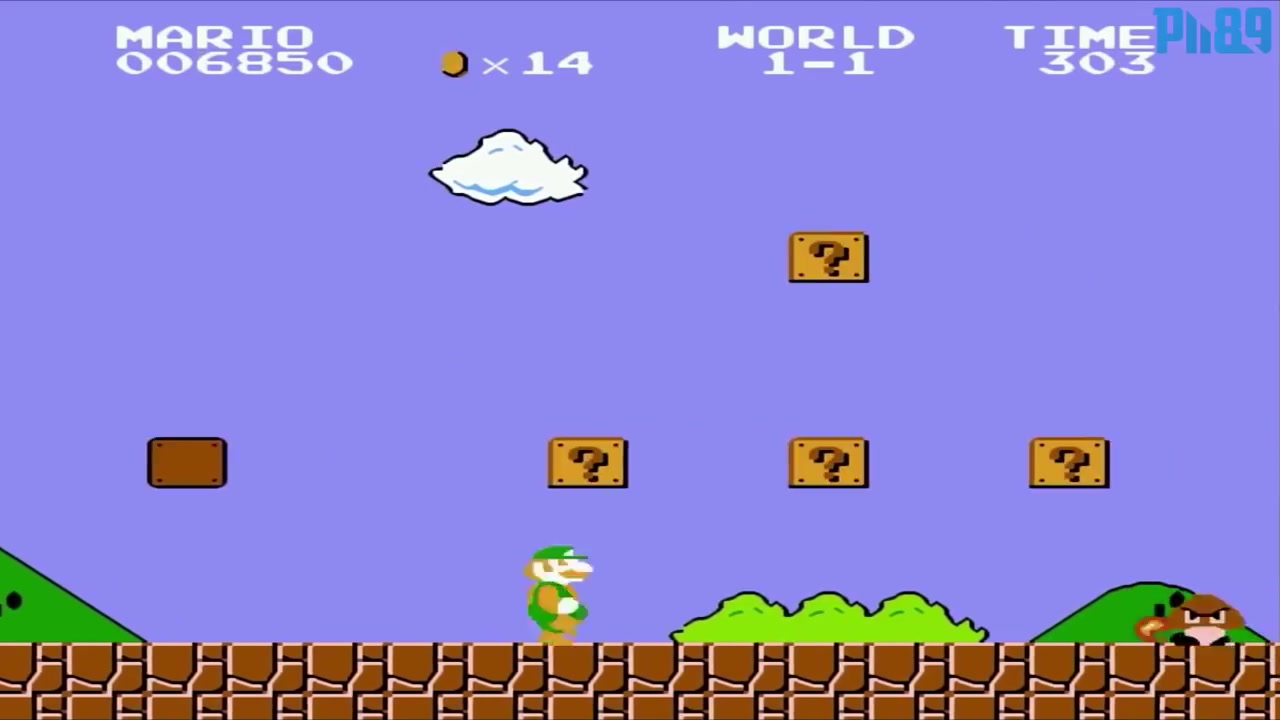mario: (509, 536, 604, 645)
